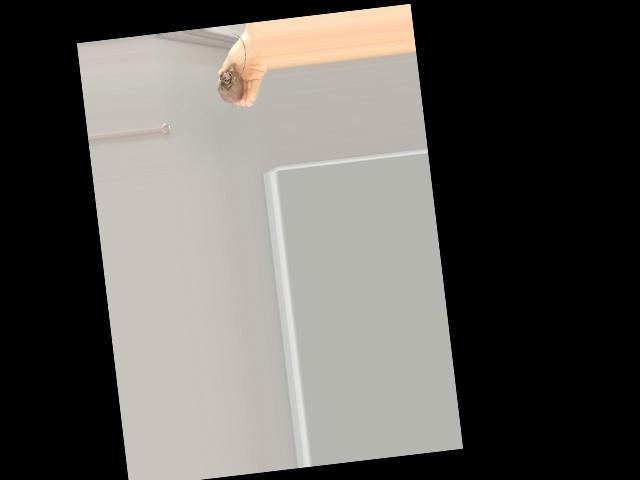beet: (212, 32, 253, 112)
